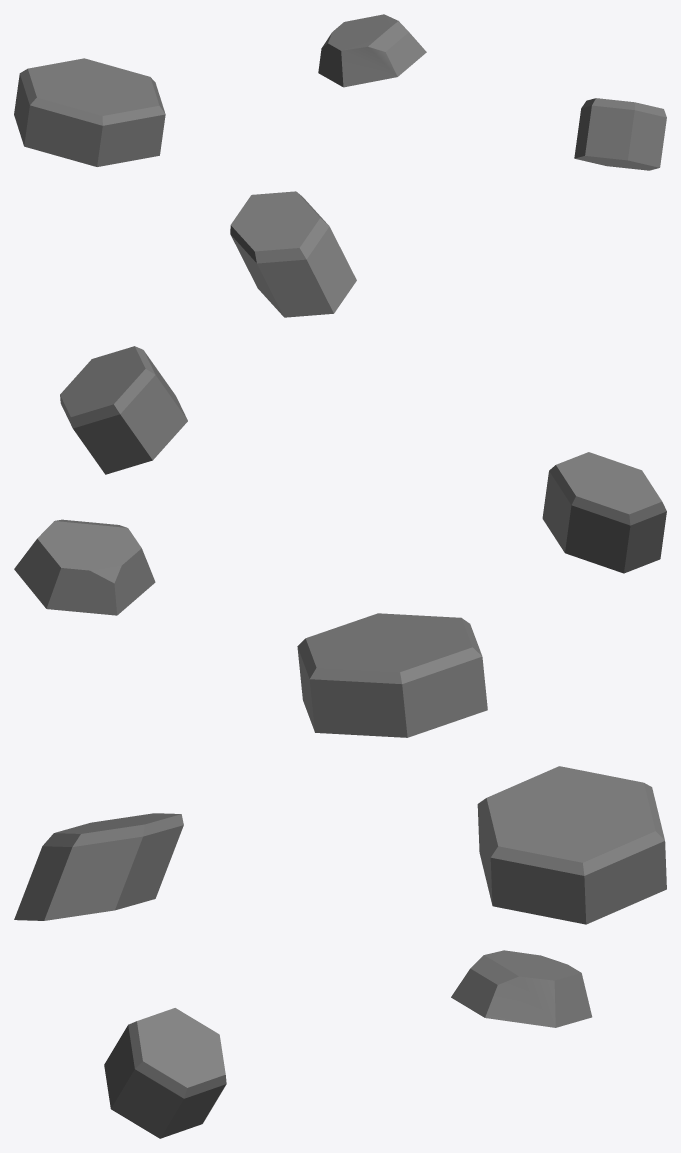
File: rock_formation2.fbx
The picture shows the model from 3 angles, top to bottom: view 1: azimuth 30°, elevation 25°; view 2: azimuth 150°, elevation 25°; view 3: azimuth 270°, elevation 25°; orthographic projection. The views are drawn at different scales.
Parts seen in each view (by area): view 1: rock; view 2: rock; view 3: rock.
Boxes of the visible parts, x1,y1,x2,y2 form: rock: (14,14,666,317); rock: (14,346,666,737); rock: (14,766,666,1138).
Bounding box in the file's own units: 1403 × 272 × 1284.
